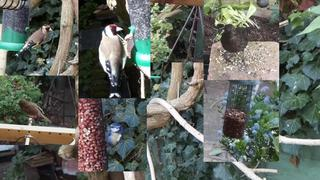blackbird: (220, 24, 255, 68)
blue tit: (102, 122, 123, 153)
goldfinch: (98, 24, 126, 98), (14, 24, 54, 59)
robin: (17, 100, 51, 123)
